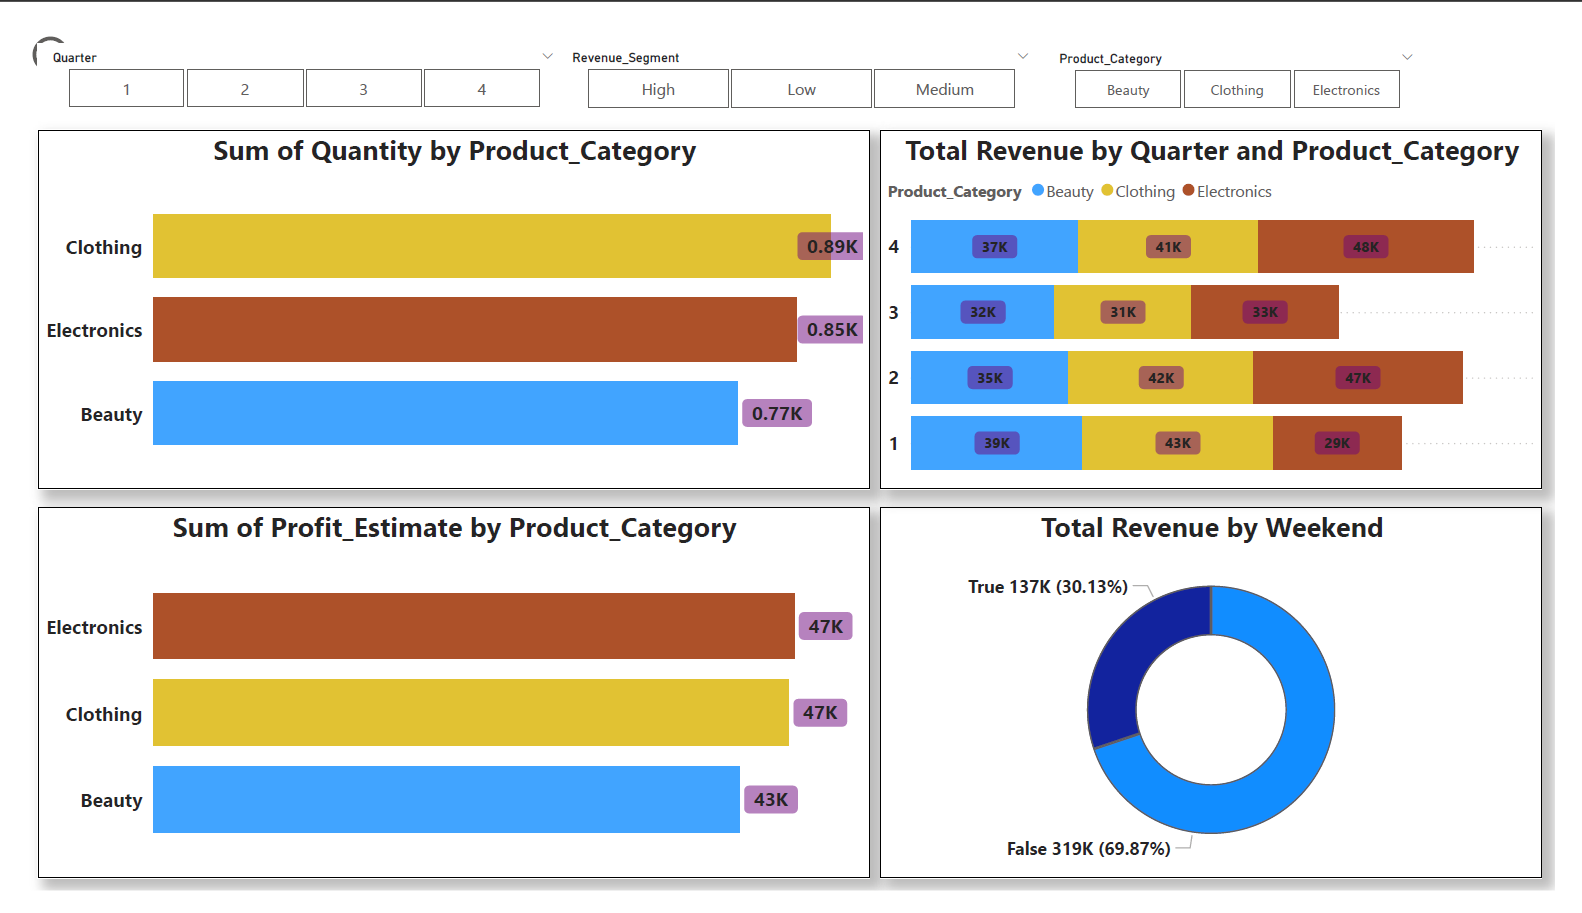

The page's visual inventory and layout, read from the dashboard file:
{"tool":"powerbi","page":{"name":"Product & Time Analysis","canvas":[1280,720],"ordinal":1},"visuals":[{"type":"actionButton","box":[0,0,100,40],"z":2},{"type":"clusteredBarChart","fields":{"Category":["retail_sales_analysis sales.Product_Category"],"Y":["Sum(retail_sales_analysis sales.Quantity)"]},"box":[8.6,83.2,697,300.8],"z":3},{"type":"barChart","fields":{"Category":["retail_sales_analysis sales.Product_Category"],"Y":["Sum(retail_sales_analysis sales.Profit_Estimate)"]},"box":[8.6,398.6,697,311.8],"z":4},{"type":"donutChart","fields":{"Category":["retail_sales_analysis sales.Weekend"],"Y":["retail_sales_analysis sales.Total Revenue"]},"box":[715.4,398.6,553.9,311.8],"z":5},{"type":"barChart","fields":{"Category":["retail_sales_analysis sales.Quarter"],"Series":["retail_sales_analysis sales.Product_Category"],"Y":["retail_sales_analysis sales.Total Revenue"]},"box":[715.4,83.2,553.9,300.8],"z":6},{"type":"slicer","fields":{"Values":["retail_sales_analysis sales.Quarter"]},"box":[8.6,11,445.1,59.9],"z":7},{"type":"slicer","fields":{"Values":["retail_sales_analysis sales.Product_Category"]},"box":[852.3,12.2,321.6,59.9],"z":8},{"type":"slicer","fields":{"Values":["retail_sales_analysis sales.Revenue_Segment"]},"box":[443.9,11,408.4,61.1],"z":9}]}

Visuals, with their boxes in screenshot pixels (x1, y1, x2, y2), scaled from the page's 1280x720 canvas onto the 1582x913 screenshot:
actionButton: {"left": 0, "top": 0, "right": 124, "bottom": 51}
clusteredBarChart - retail_sales_analysis sales.Product_Category x Sum(retail_sales_analysis sales.Quantity): {"left": 11, "top": 106, "right": 872, "bottom": 487}
barChart - retail_sales_analysis sales.Product_Category x Sum(retail_sales_analysis sales.Profit_Estimate): {"left": 11, "top": 505, "right": 872, "bottom": 901}
donutChart - retail_sales_analysis sales.Weekend x retail_sales_analysis sales.Total Revenue: {"left": 884, "top": 505, "right": 1569, "bottom": 901}
barChart - retail_sales_analysis sales.Quarter x retail_sales_analysis sales.Product_Category: {"left": 884, "top": 106, "right": 1569, "bottom": 487}
slicer - retail_sales_analysis sales.Quarter: {"left": 11, "top": 14, "right": 561, "bottom": 90}
slicer - retail_sales_analysis sales.Product_Category: {"left": 1053, "top": 15, "right": 1451, "bottom": 91}
slicer - retail_sales_analysis sales.Revenue_Segment: {"left": 549, "top": 14, "right": 1053, "bottom": 91}
